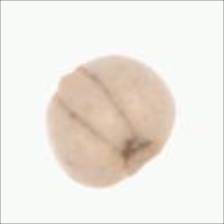L5: (50, 65, 137, 151), (120, 136, 165, 177)
L6: (46, 54, 177, 188)
